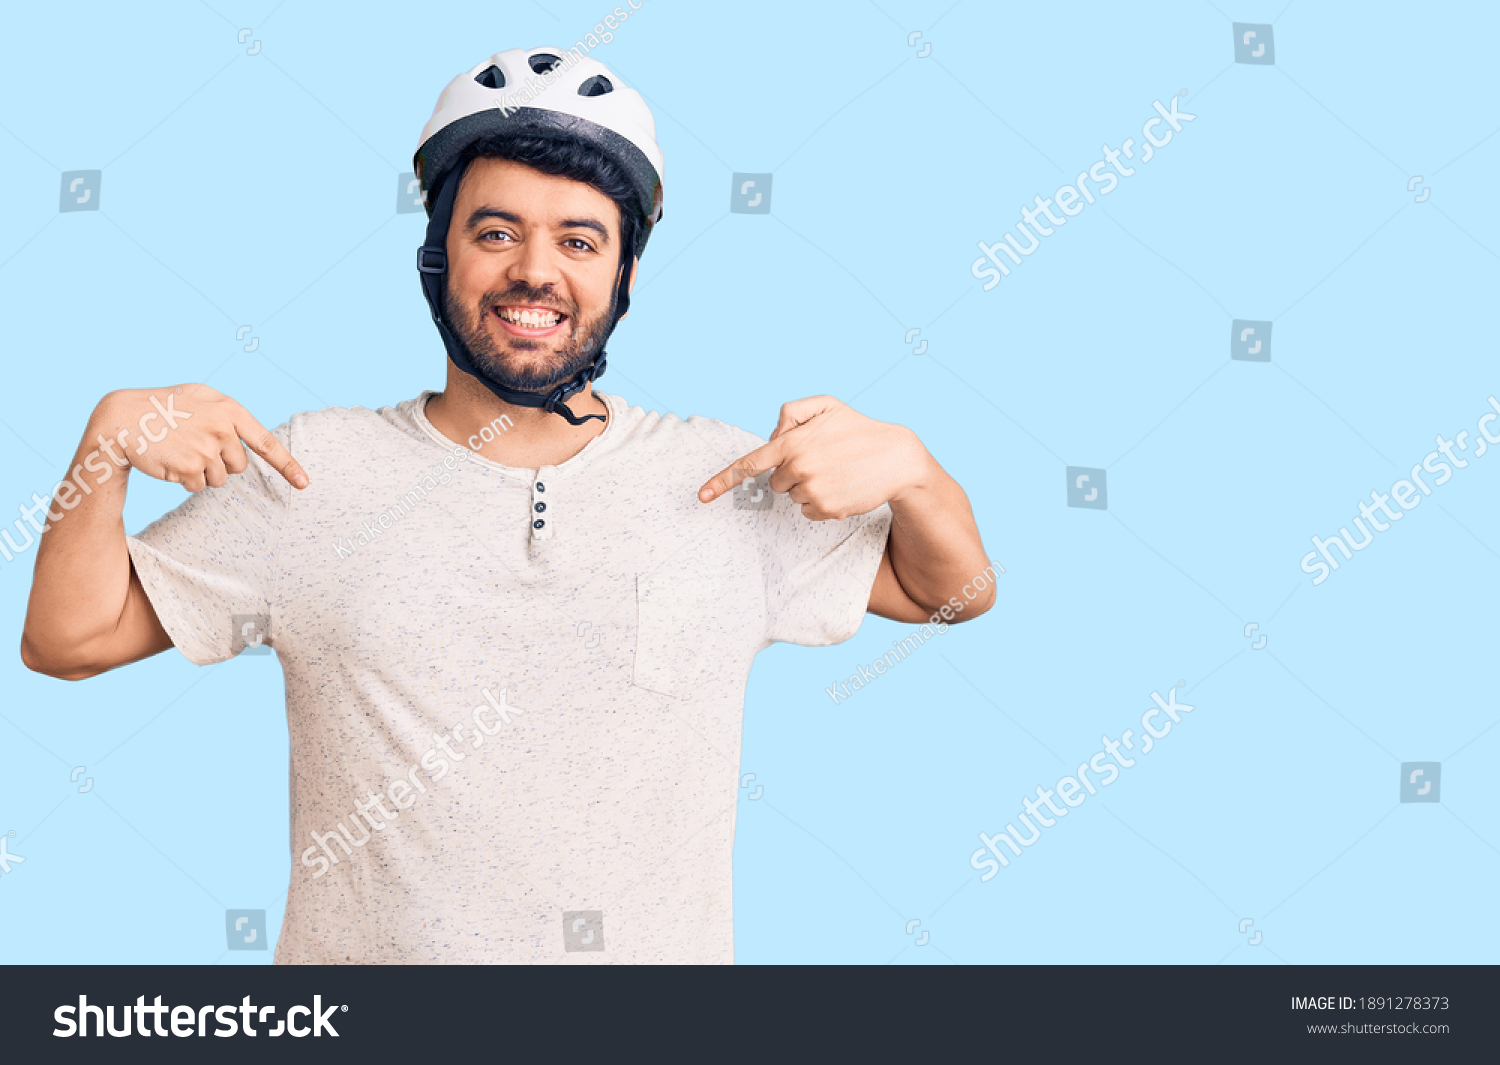helmet: (415, 47, 664, 409)
